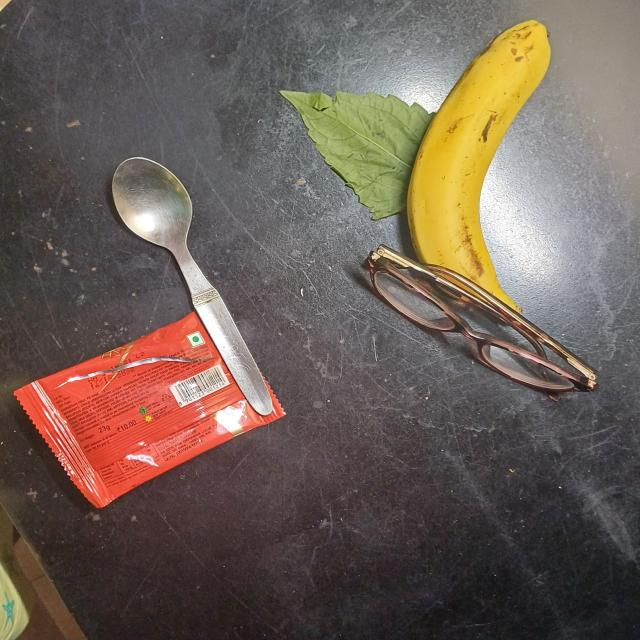Banana-Bio: (406, 15, 578, 324)
Leaf-Bio: (275, 85, 442, 223)
Plastic-NonBio: (11, 307, 290, 512)
Spectacles-NonBio: (357, 240, 604, 400)
Steel-NonBio: (109, 154, 278, 418)
